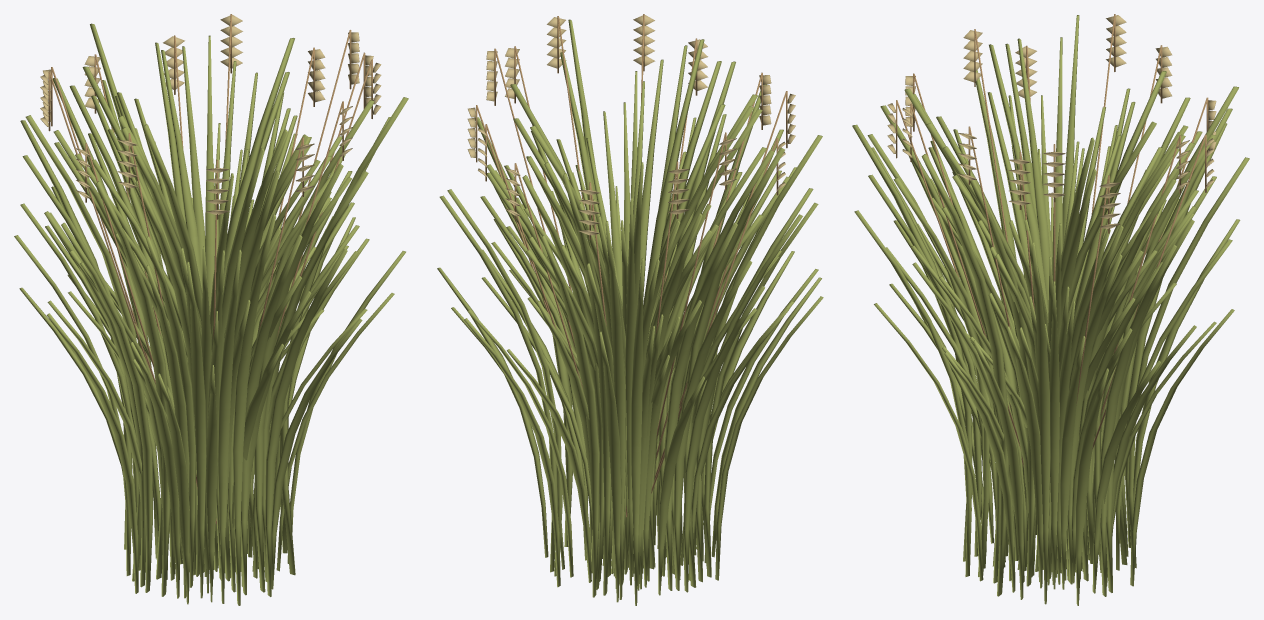
Rendered from hq_grass_cc0_drawmerged.glb.
The picture shows the model from 3 angles, left to right: view 1: azimuth 30°, elevation 25°; view 2: azimuth 150°, elevation 25°; view 3: azimuth 270°, elevation 25°; orthographic projection. The views are drawn at different scales.
Parts seen in each view (by area): view 1: Arching ornamental grass blades, Attached upright seed rachis, Feathery seed panicles; view 2: Arching ornamental grass blades, Attached upright seed rachis, Feathery seed panicles; view 3: Arching ornamental grass blades, Attached upright seed rachis, Feathery seed panicles.
Boxes of the visible parts, x1,y1,x2,y2 form: Arching ornamental grass blades: (14,23,408,605); Attached upright seed rachis: (48,14,372,524); Feathery seed panicles: (40,14,381,214); Arching ornamental grass blades: (437,19,823,605); Attached upright seed rachis: (476,14,787,517); Feathery seed panicles: (467,15,795,235); Arching ornamental grass blades: (852,15,1249,605); Attached upright seed rachis: (896,14,1208,465); Feathery seed panicles: (887,15,1216,228).
Size of the model in its own units: 0.8849 by 1.22 by 0.8781.
3 materials, 3 textured.
